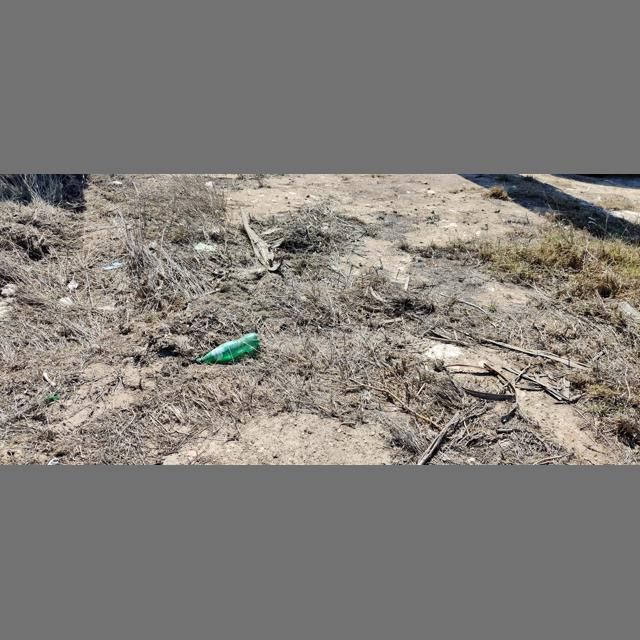litter: (196, 333, 261, 365), (1, 284, 17, 297), (195, 243, 217, 252), (103, 262, 121, 270), (41, 396, 60, 400), (196, 359, 201, 365)
